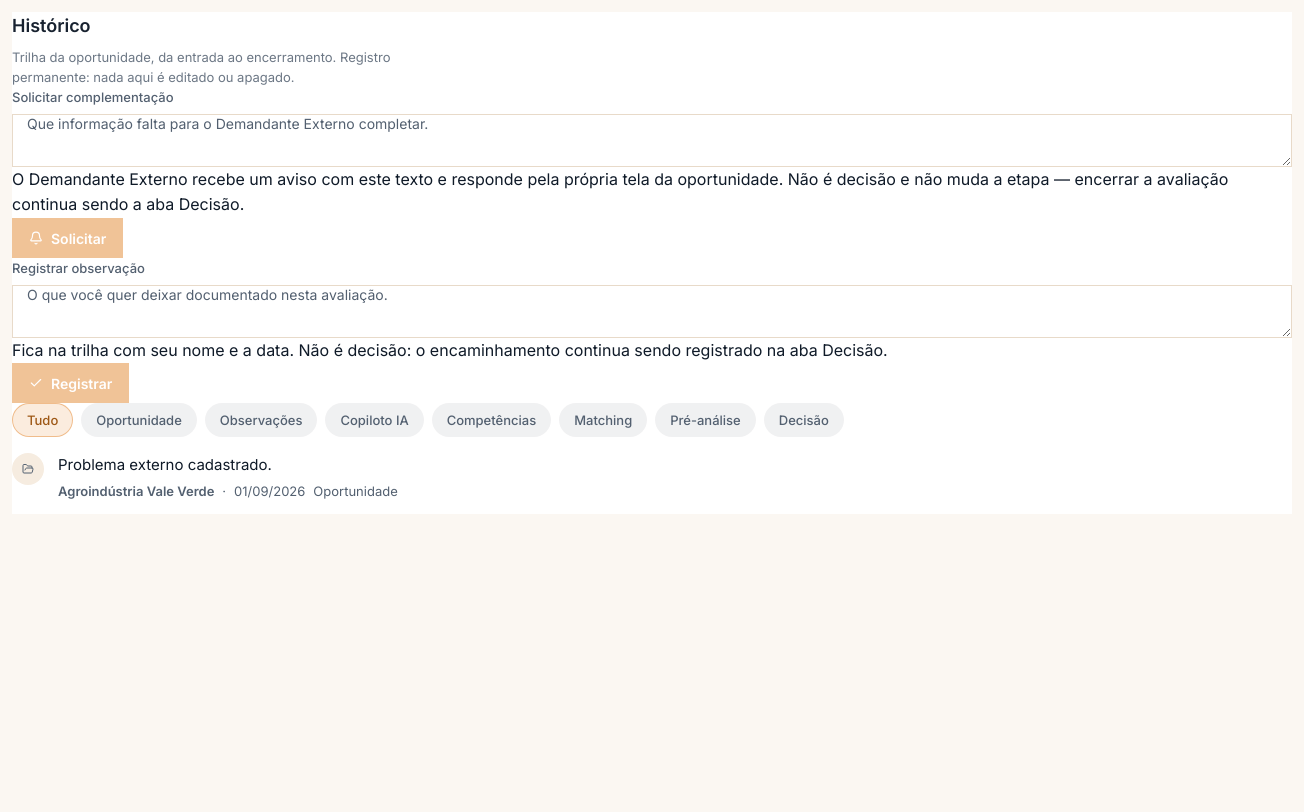
it: AbaHistorico — pedido de complementação (PB26) › o pedido entra na trilha na hora, sem recarregar a página
The width and height of the screenshot is (1304, 812).
Type "Faltam os laudos do lote." into the text box labelled "Solicitar complementação". click: (652, 140)
box: 12,114 -> 1292,167
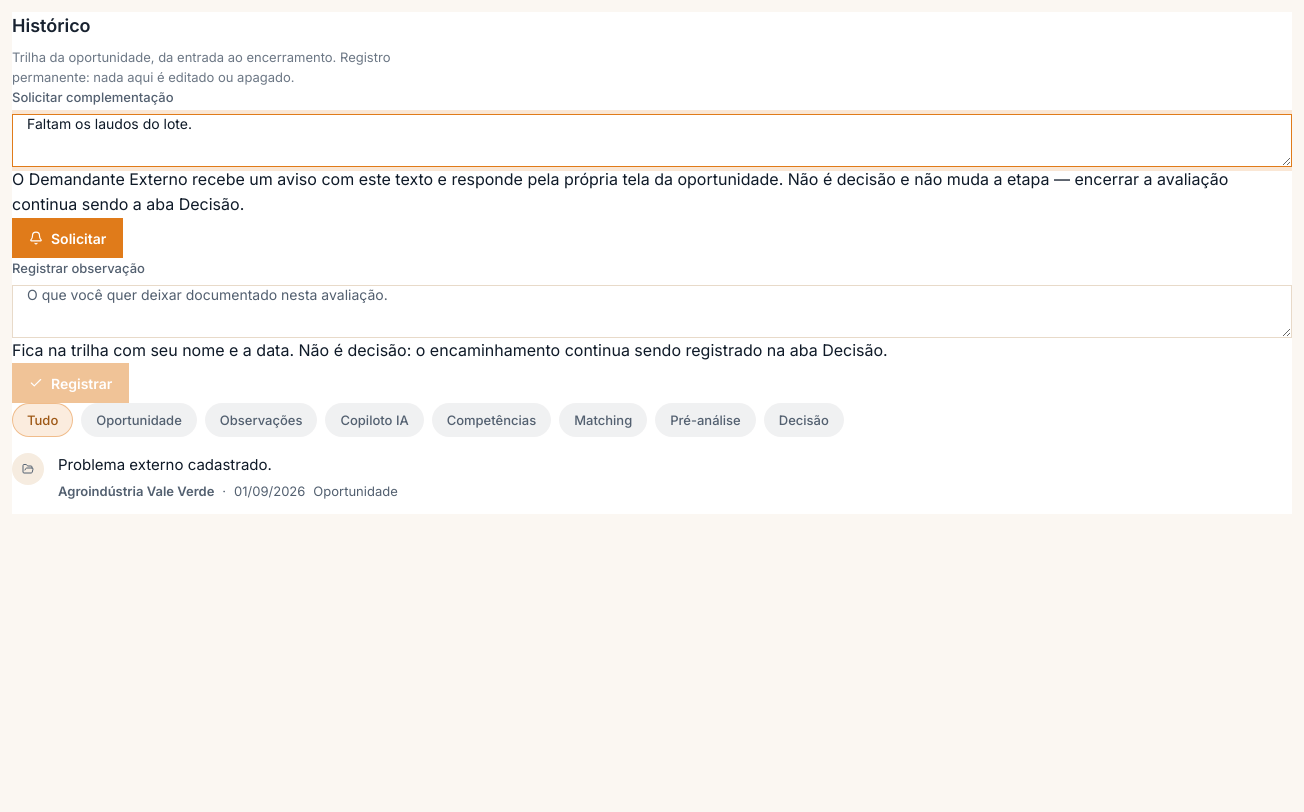
Click the button "Solicitar". click: (68, 238)
box: 12,218 -> 123,258
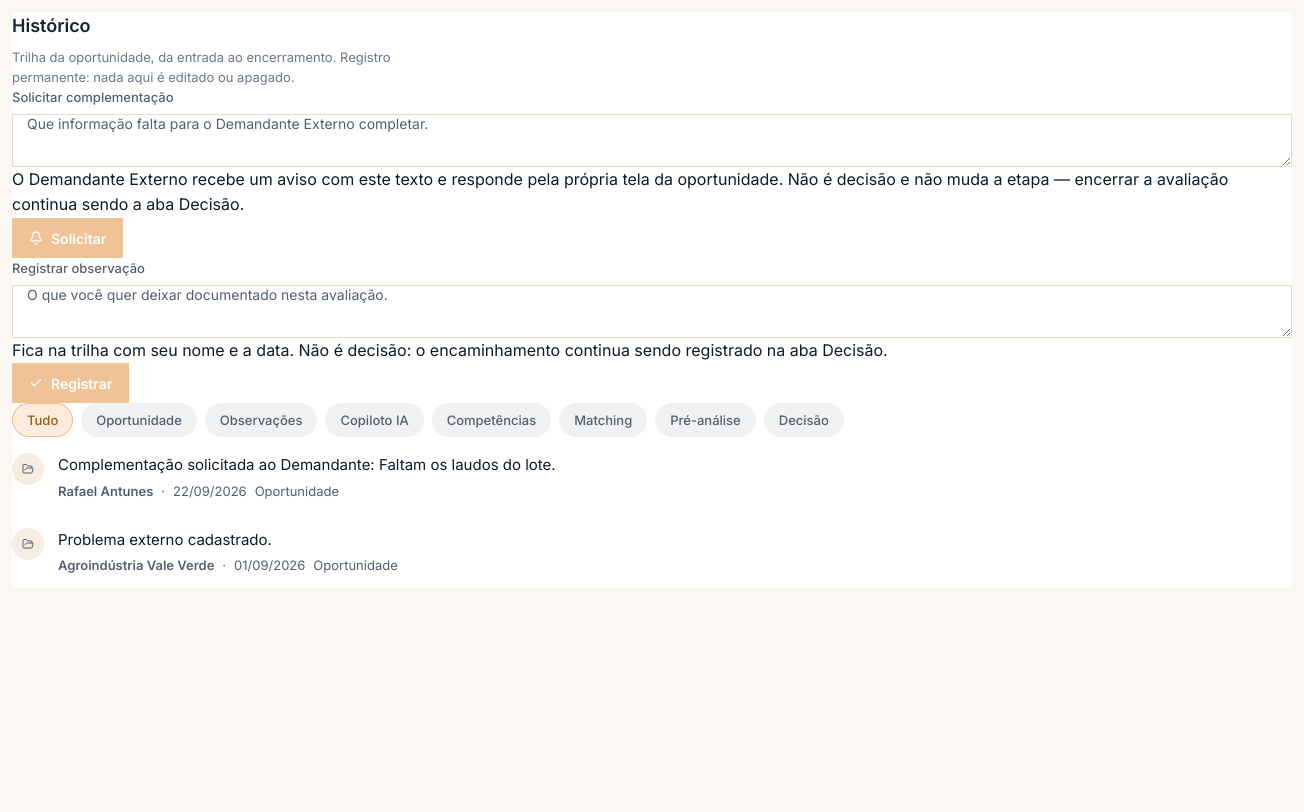
Now the text "Faltam os laudos do lote" is shown, box 58,456 -> 556,474
